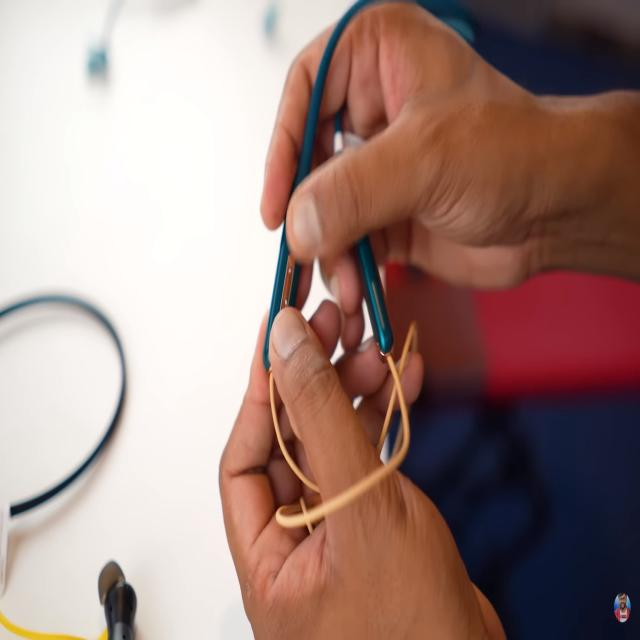Neckband: (262, 1, 419, 532)
